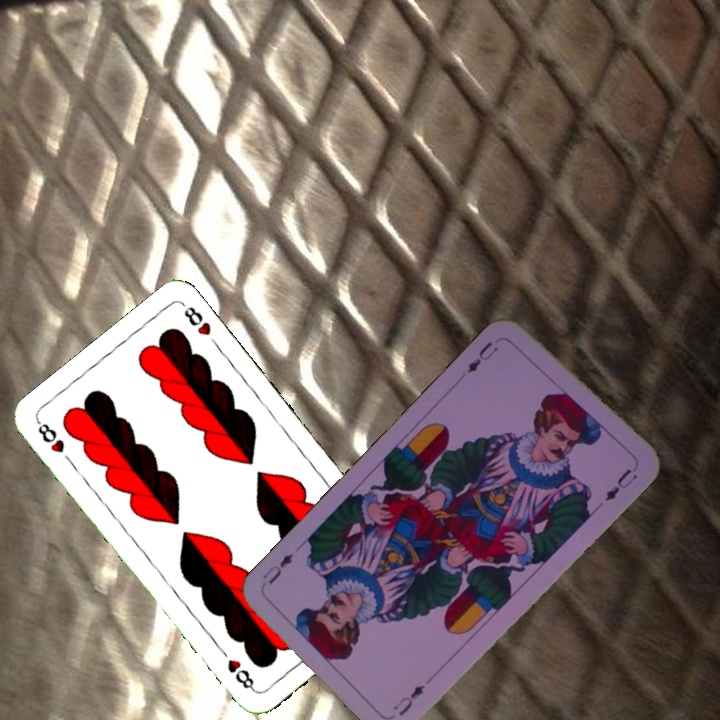EU: (463, 337, 501, 376), (389, 680, 427, 719)
H8: (33, 417, 67, 456)
